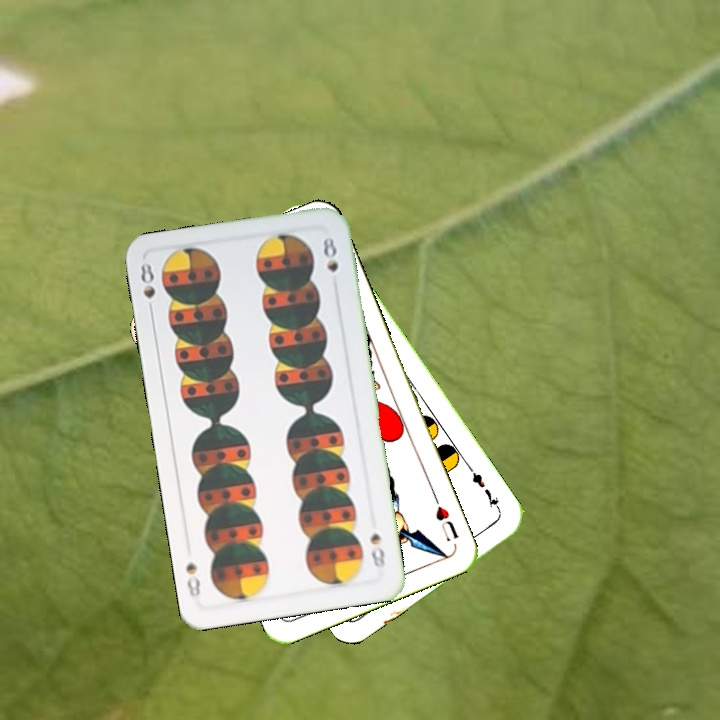E7: (465, 464, 504, 516)
HU: (429, 491, 461, 545)
S8: (136, 258, 158, 318), (366, 529, 388, 570)
